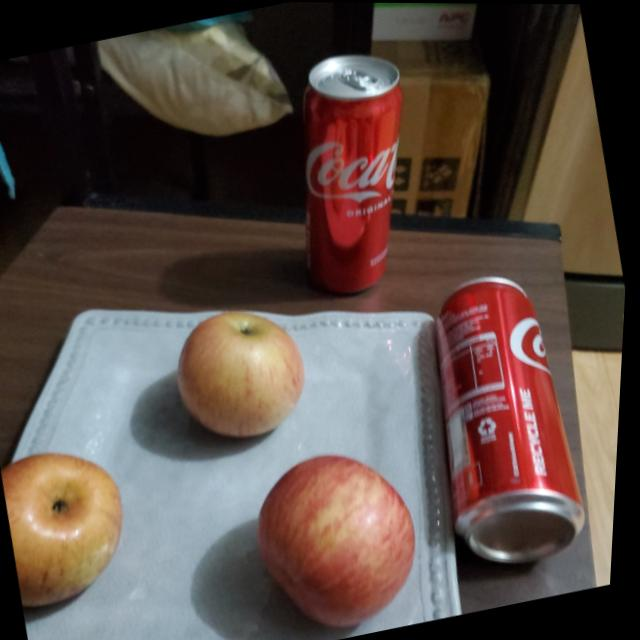apple: (242, 442, 439, 640), (168, 293, 328, 450), (0, 440, 146, 612)
coke: (406, 264, 607, 574), (269, 41, 447, 297)
